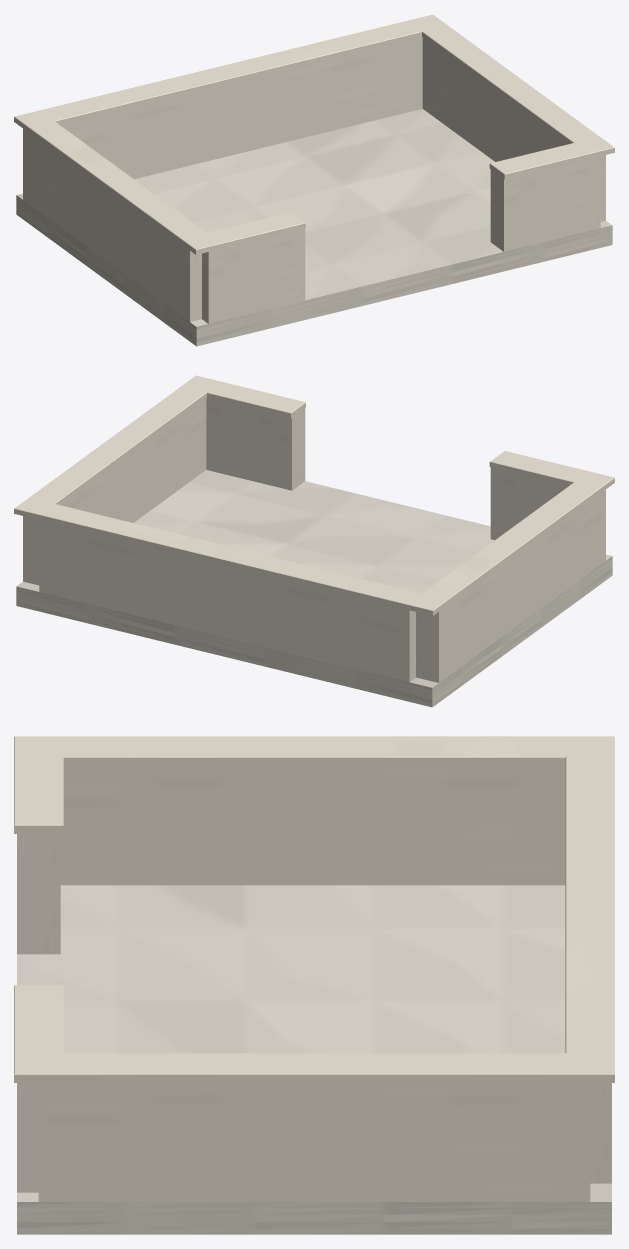
Rendered from town_terrace.glb.
3 views of the same model, one above another, from view 1: azimuth 30°, elevation 25°; view 2: azimuth 150°, elevation 25°; view 3: azimuth 270°, elevation 25° (orthographic). The views are drawn at different scales.
Visible parts, largest first — view 1: town_terrace; view 2: town_terrace; view 3: town_terrace.
Part boxes in pixels (x1=…): town_terrace: x1=14, y1=14, x2=614, y2=346; town_terrace: x1=14, y1=375, x2=614, y2=707; town_terrace: x1=14, y1=736, x2=614, y2=1234.
Bounding box in the file's own units: 4.03 × 0.9 × 3.03.
2 materials, 2 textured.
